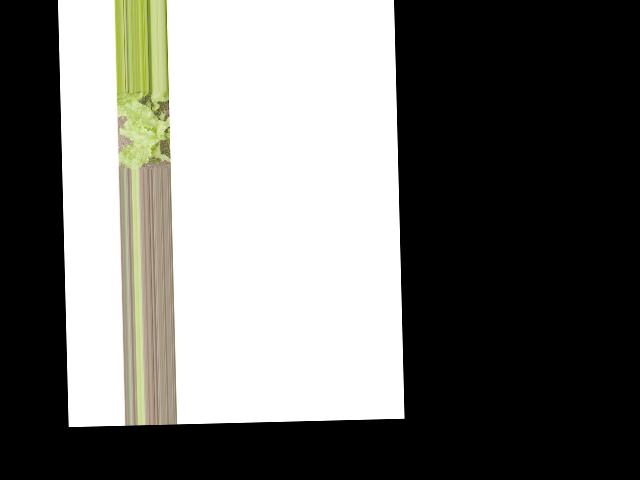lettuce: (119, 90, 174, 169)
